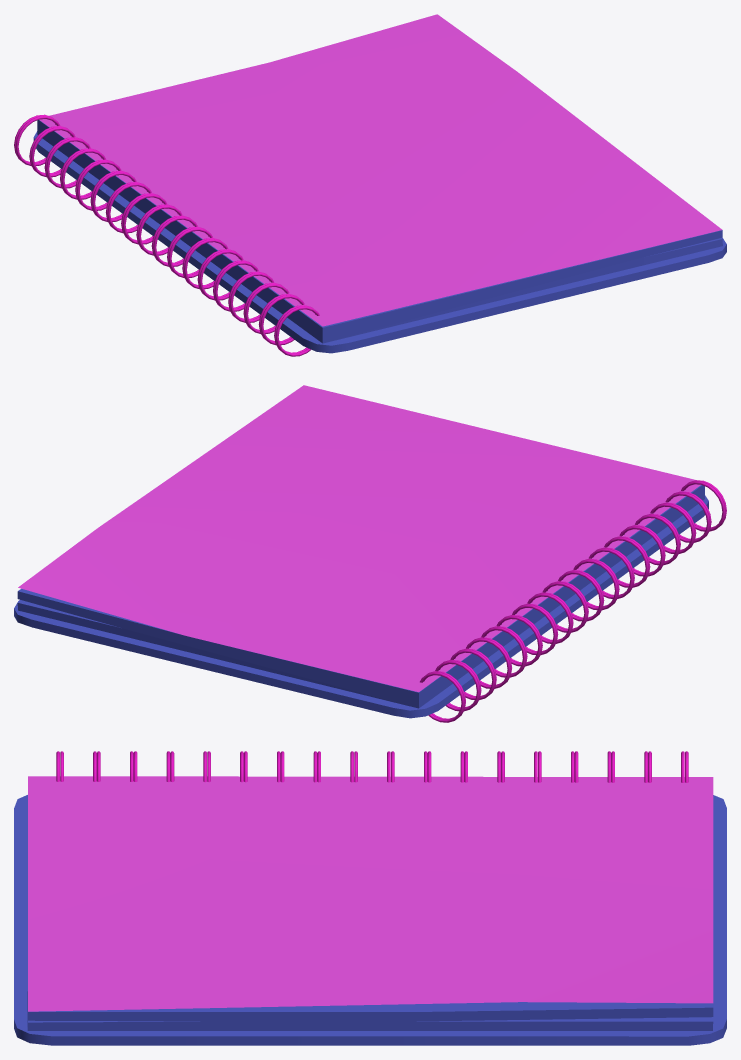
File: notebook06.fbx
The picture shows the model from 3 angles, top to bottom: view 1: azimuth 30°, elevation 25°; view 2: azimuth 150°, elevation 25°; view 3: azimuth 270°, elevation 25°; orthographic projection. The views are drawn at different scales.
Visible parts, largest first — view 1: notebook_03_low, notebook_02_low, notebook_01_low; view 2: notebook_03_low, notebook_02_low, notebook_01_low; view 3: notebook_03_low, notebook_02_low, notebook_01_low.
Part boxes in pixels (x1,y1,x2,y2): notebook_03_low: [33, 14, 726, 353]; notebook_02_low: [37, 120, 722, 343]; notebook_01_low: [14, 114, 319, 356]; notebook_03_low: [14, 385, 708, 718]; notebook_02_low: [17, 485, 704, 708]; notebook_01_low: [420, 480, 726, 722]; notebook_03_low: [14, 776, 726, 1045]; notebook_02_low: [27, 991, 713, 1030]; notebook_01_low: [56, 751, 688, 782].
Bounding box in the file's own units: 17.99 × 1.91 × 20.84.
